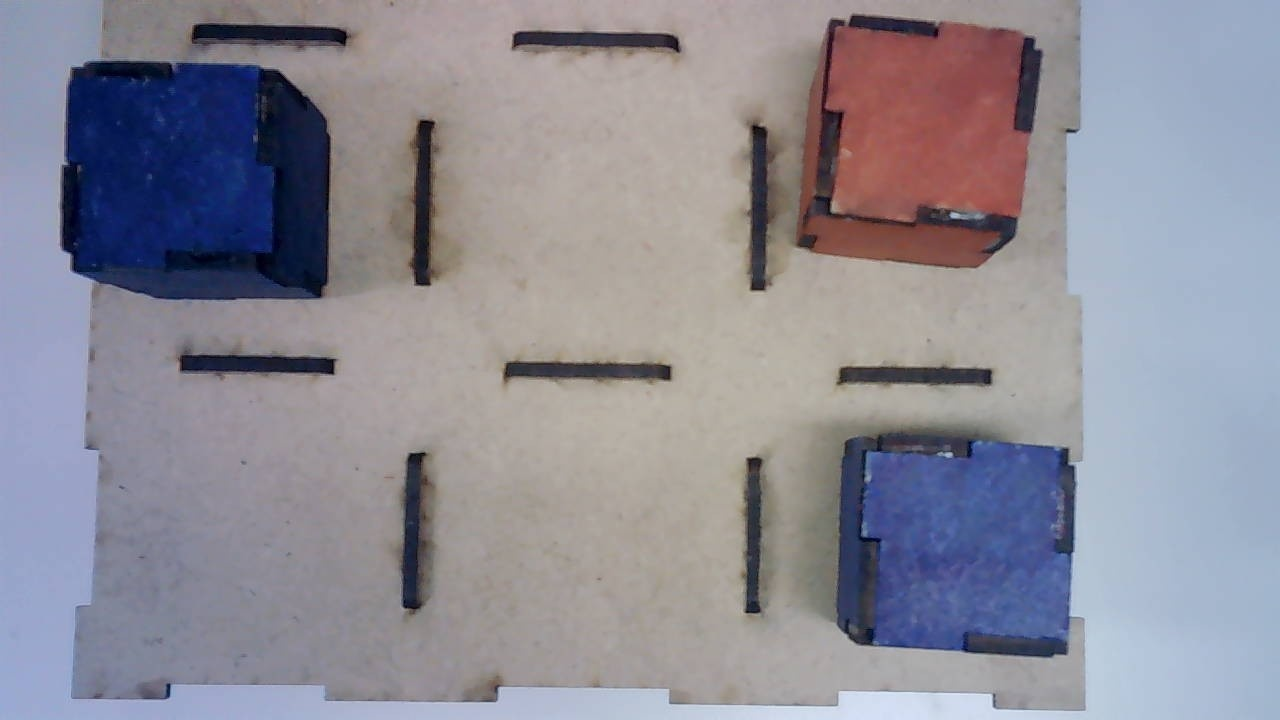blue box: (56, 58, 330, 298), (840, 433, 1071, 660)
red box: (801, 14, 1038, 273)
